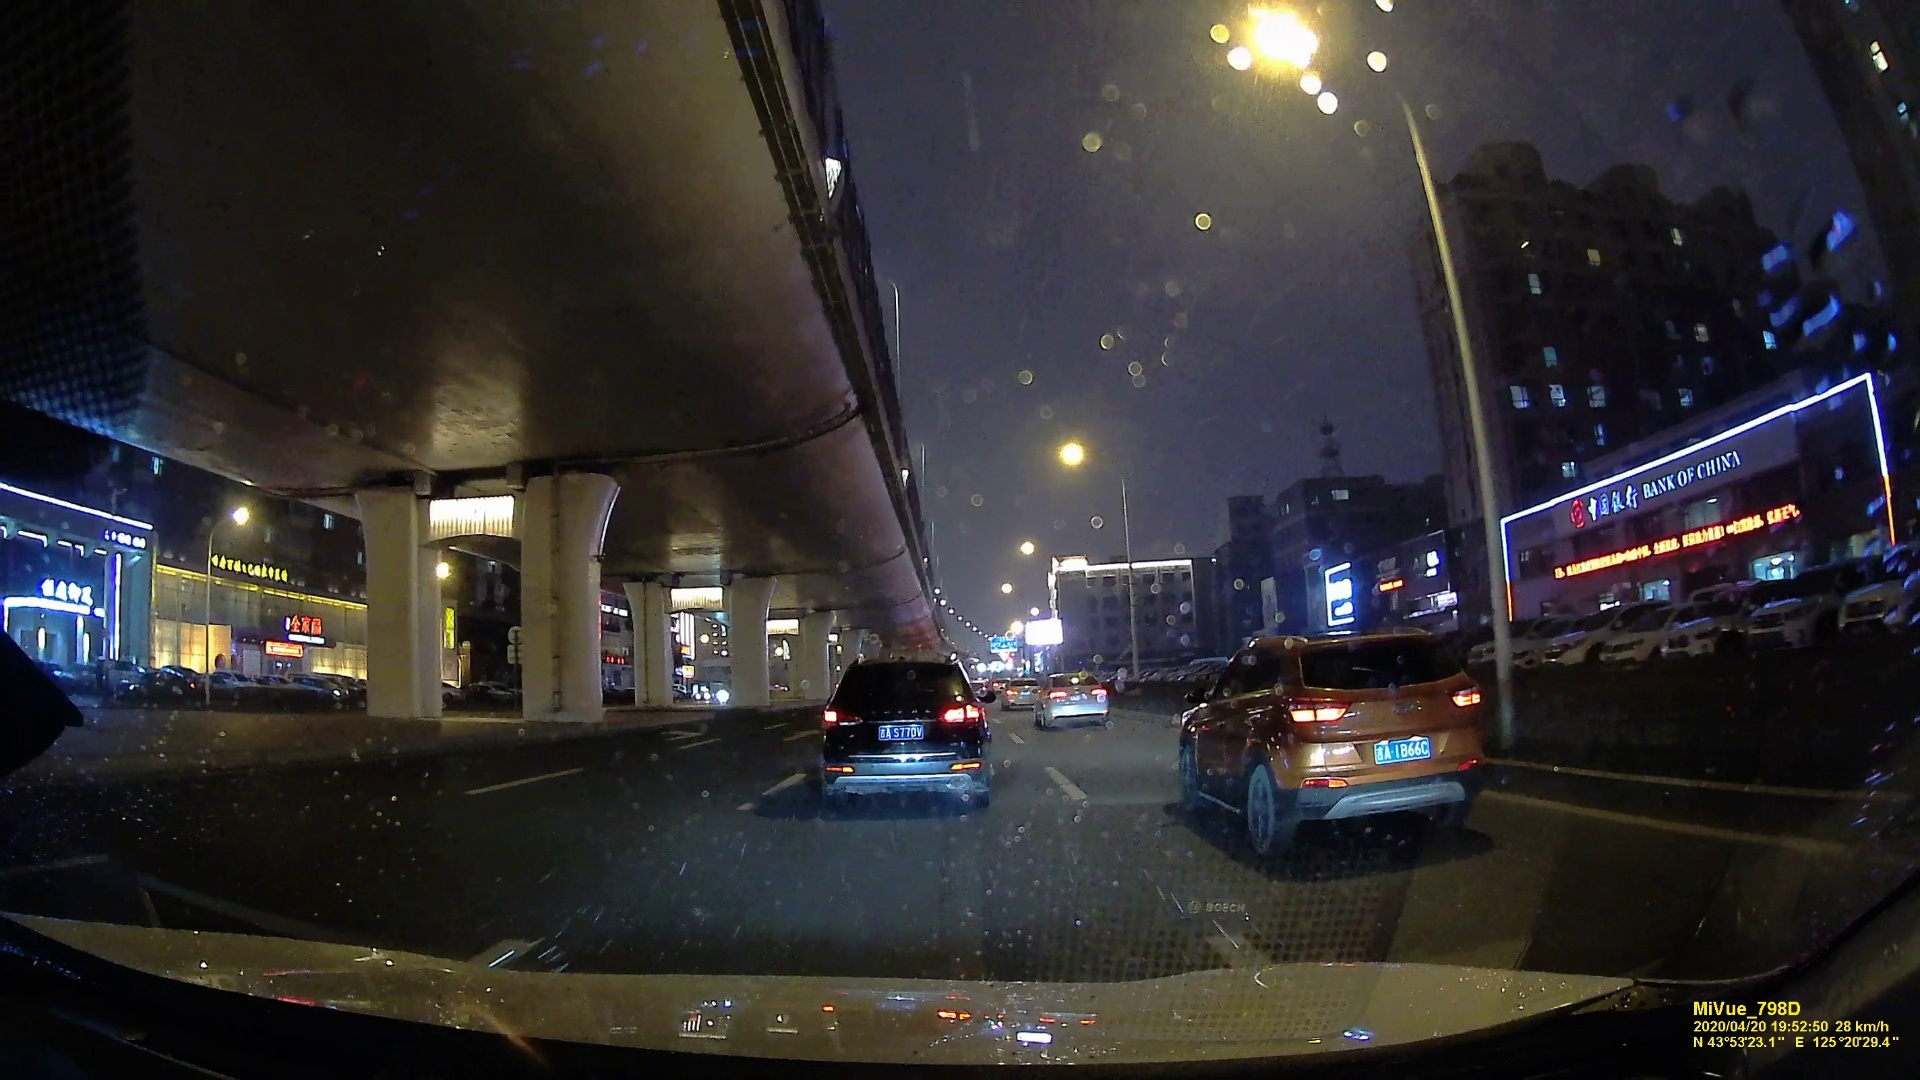vehicle: (1176, 625, 1499, 852), (812, 651, 1002, 814), (1038, 673, 1109, 727), (1000, 676, 1036, 711)
